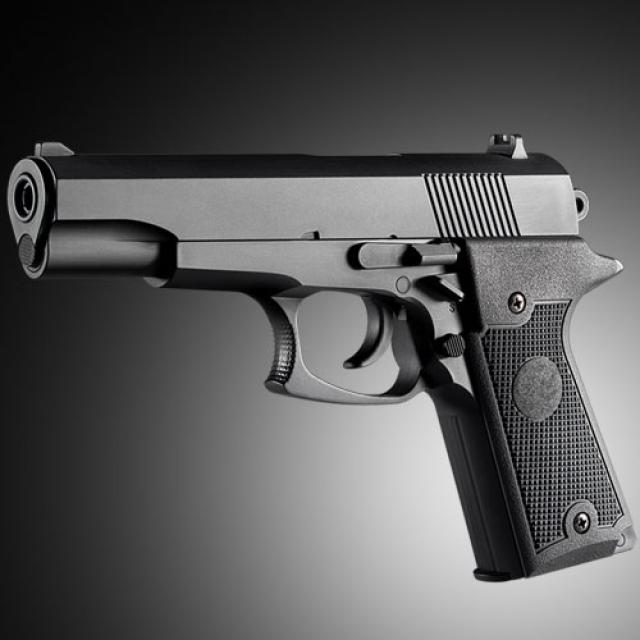HandGun: (5, 134, 640, 584)
